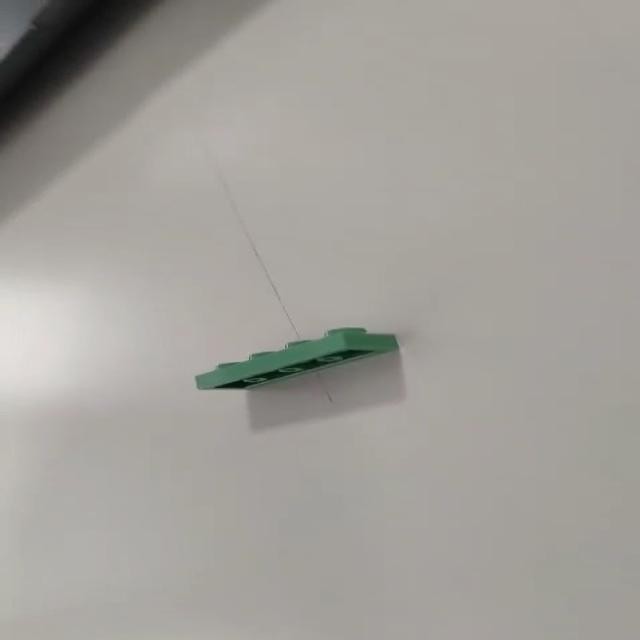C4x1x0: (190, 327, 398, 401)
